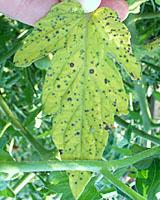Tomato Septoria leaf spot: (11, 4, 144, 198)
